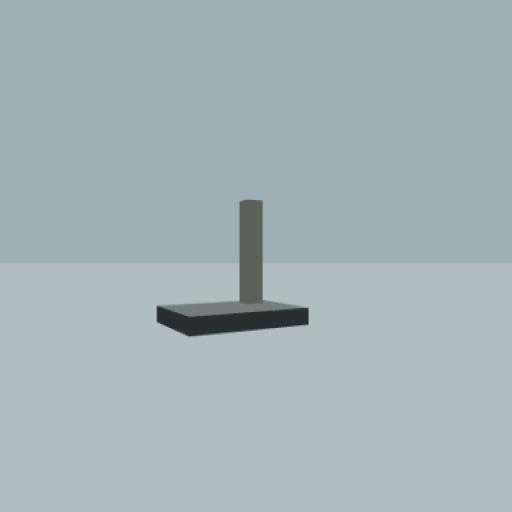platform: (157, 198, 310, 340)
